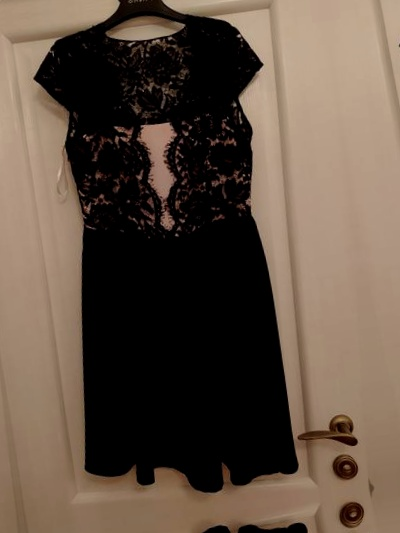Dress: (8, 0, 343, 490), (365, 0, 400, 441), (80, 531, 400, 533), (0, 0, 277, 1)
